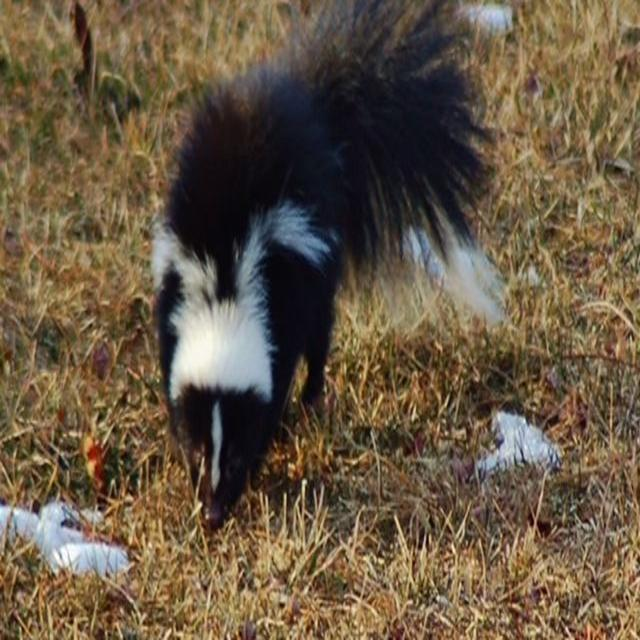Skunk: (155, 0, 490, 548)
